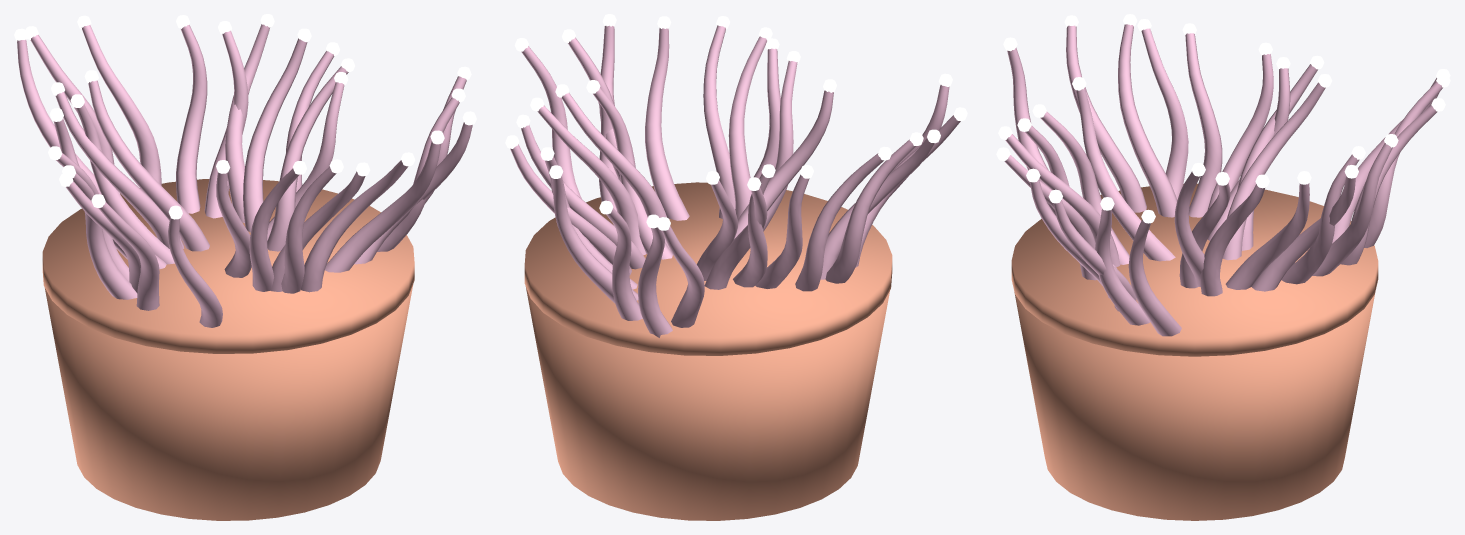
Rendered from E20_Sea_Anemone.glb.
3 views of the same model, side by side, from view 1: azimuth 30°, elevation 25°; view 2: azimuth 150°, elevation 25°; view 3: azimuth 270°, elevation 25° (orthographic).
Parts seen in each view (by area): view 1: E20_Sea_Anemone_Mesh; view 2: E20_Sea_Anemone_Mesh; view 3: E20_Sea_Anemone_Mesh.
Part boxes in pixels (box(x1,y1,x2,y2)): E20_Sea_Anemone_Mesh: box(14, 14, 476, 520); E20_Sea_Anemone_Mesh: box(505, 14, 967, 520); E20_Sea_Anemone_Mesh: box(996, 14, 1450, 520).
Bounding box in the file's own units: 1.43 × 1.16 × 1.36.
